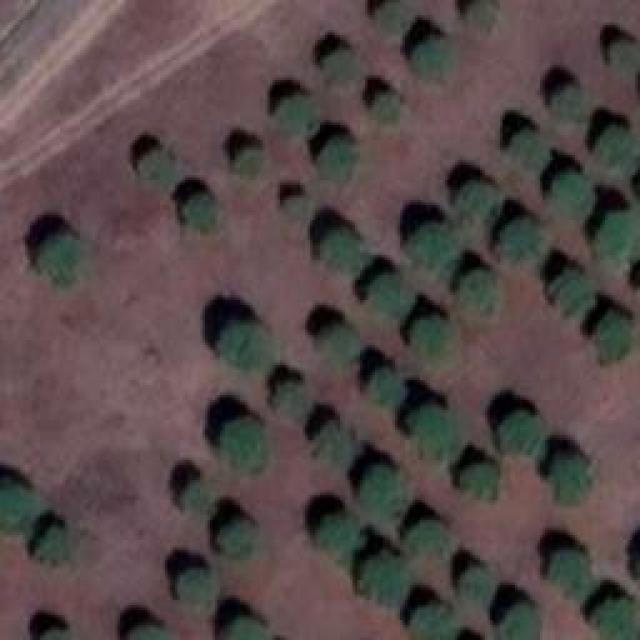Tree: (405, 395, 455, 460), (360, 270, 415, 328), (353, 547, 406, 605), (220, 420, 270, 480), (500, 213, 553, 268), (220, 318, 275, 371), (493, 410, 548, 463), (548, 168, 598, 223), (405, 313, 455, 368), (595, 210, 640, 268), (355, 465, 403, 518), (405, 223, 455, 273), (543, 268, 593, 318), (455, 270, 503, 320), (590, 310, 635, 363), (210, 517, 258, 565), (315, 228, 365, 273), (545, 450, 590, 500), (542, 550, 590, 595), (278, 93, 321, 143), (313, 135, 356, 183), (595, 125, 640, 170), (270, 375, 315, 420), (458, 463, 503, 508), (410, 35, 453, 80), (310, 420, 353, 465), (597, 597, 640, 640), (463, 175, 503, 220), (178, 568, 218, 613), (363, 365, 406, 405), (38, 235, 78, 278), (325, 45, 363, 90), (495, 602, 538, 640), (410, 600, 450, 640), (0, 482, 32, 532), (508, 128, 543, 173), (403, 520, 448, 555), (312, 513, 350, 553), (320, 322, 358, 360), (555, 80, 588, 123), (375, 0, 410, 40), (140, 150, 175, 188), (180, 198, 218, 233), (457, 565, 495, 598), (35, 525, 68, 563), (368, 93, 403, 128), (603, 38, 638, 73), (230, 150, 265, 180), (180, 478, 210, 511), (465, 0, 495, 32), (127, 622, 175, 640), (222, 617, 259, 640), (280, 195, 310, 218)
